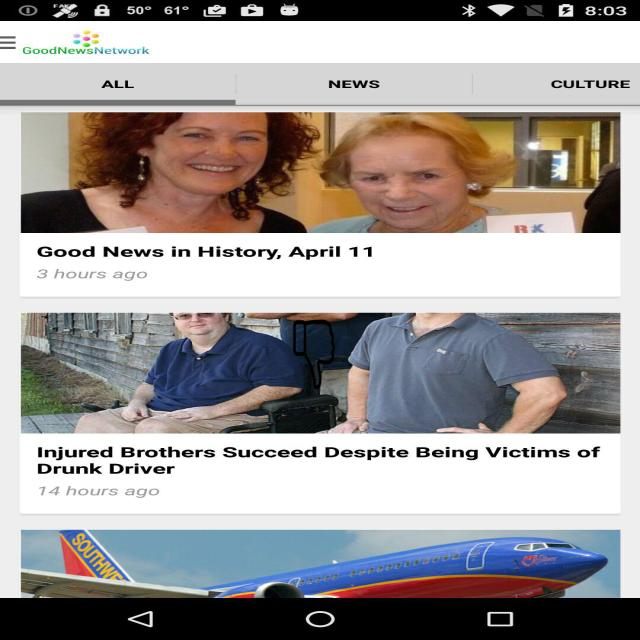obstruction: (293, 320, 335, 389)
